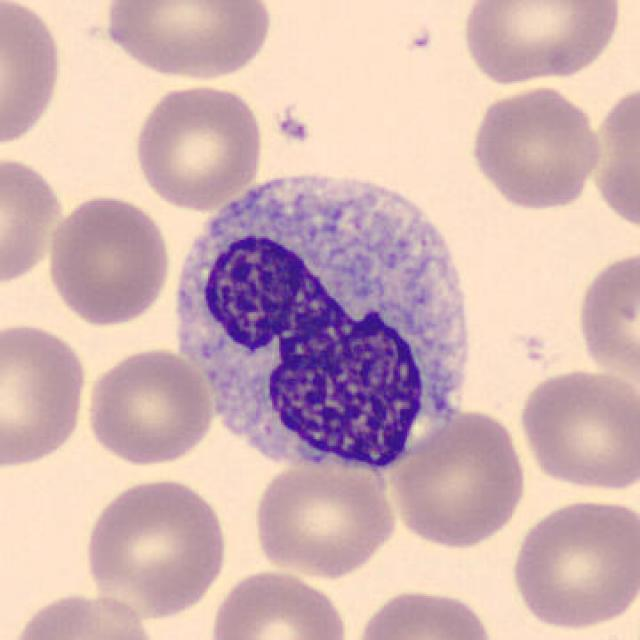Monocyte: (164, 150, 487, 488)
RBC: (80, 474, 231, 621), (384, 404, 532, 550), (249, 453, 400, 580), (43, 190, 174, 330), (506, 494, 636, 633), (130, 80, 266, 212), (466, 83, 604, 211), (82, 344, 217, 467), (516, 365, 638, 494), (100, 0, 278, 83), (456, 0, 627, 86), (0, 319, 91, 471), (206, 566, 352, 640), (0, 0, 66, 153), (0, 150, 68, 289), (572, 247, 640, 384), (586, 75, 640, 234), (350, 585, 498, 640), (5, 589, 160, 640)
